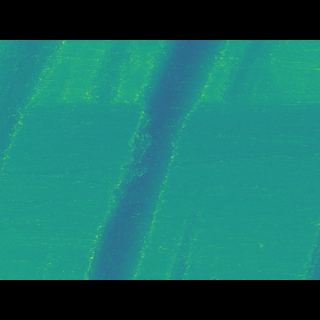Loch: (77, 68, 284, 250), (0, 69, 69, 168)
